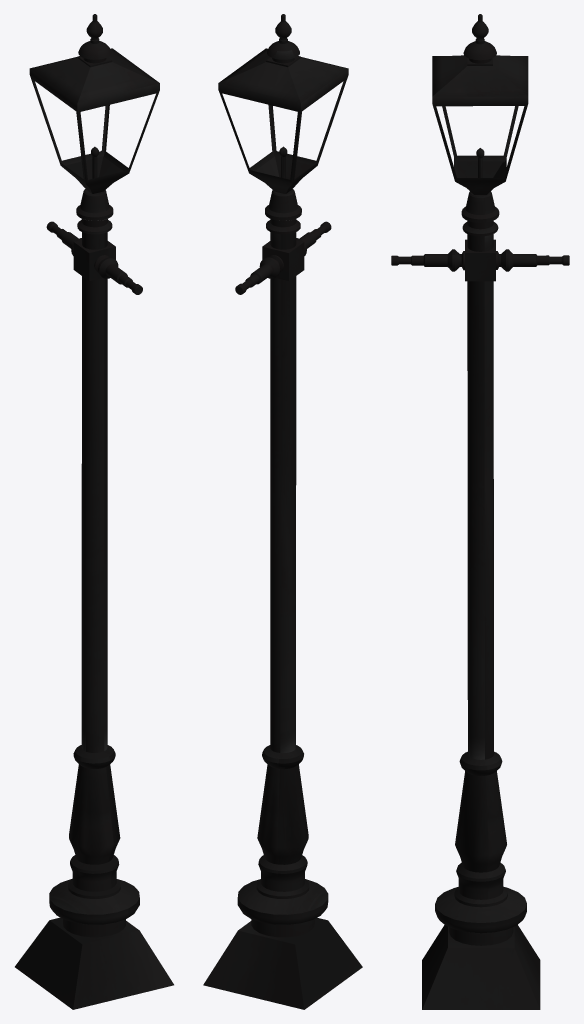
Rendered from posLuz.obj.
3 views of the same model, side by side, from view 1: azimuth 30°, elevation 25°; view 2: azimuth 150°, elevation 25°; view 3: azimuth 270°, elevation 25° (orthographic).
Visible parts, largest first — view 1: polySurface18_Mesh.015, polySurface17_Mesh.014, polySurface23_Mesh.020, polySurface22_Mesh.019, polySurface19_Mesh.016, polySurface21_Mesh.018, polySurface20_Mesh.017; view 2: polySurface18_Mesh.015, polySurface17_Mesh.014, polySurface23_Mesh.020, polySurface22_Mesh.019, polySurface19_Mesh.016, polySurface20_Mesh.017, polySurface21_Mesh.018; view 3: polySurface18_Mesh.015, polySurface17_Mesh.014, polySurface23_Mesh.020, polySurface22_Mesh.019, polySurface21_Mesh.018, polySurface20_Mesh.017, polySurface19_Mesh.016.
Boxes of the visible parts, x1,y1,x2,y2 form: polySurface18_Mesh.015: (49,146,139,937); polySurface17_Mesh.014: (15,917,173,1009); polySurface23_Mesh.020: (29,48,159,193); polySurface22_Mesh.019: (73,240,115,281); polySurface19_Mesh.016: (78,14,111,63); polySurface21_Mesh.018: (94,255,142,294); polySurface20_Mesh.017: (46,221,81,255); polySurface18_Mesh.015: (237,146,328,937); polySurface17_Mesh.014: (203,917,362,1009); polySurface23_Mesh.020: (218,48,348,193); polySurface22_Mesh.019: (262,240,304,280); polySurface19_Mesh.016: (267,14,299,63); polySurface20_Mesh.017: (235,255,283,294); polySurface21_Mesh.018: (296,221,331,255); polySurface18_Mesh.015: (435,148,526,945); polySurface17_Mesh.014: (422,924,540,1009); polySurface23_Mesh.020: (432,55,528,194); polySurface22_Mesh.019: (465,239,495,281); polySurface21_Mesh.018: (391,249,464,271); polySurface20_Mesh.017: (496,249,569,271); polySurface19_Mesh.016: (463,14,496,63).
Bounding box in the file's own units: 1 × 9.06 × 1.51.
7 materials, 7 textured.
